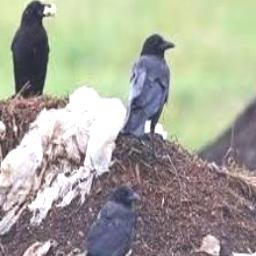Crow: (121, 33, 177, 137), (69, 185, 141, 256), (12, 0, 55, 96)
